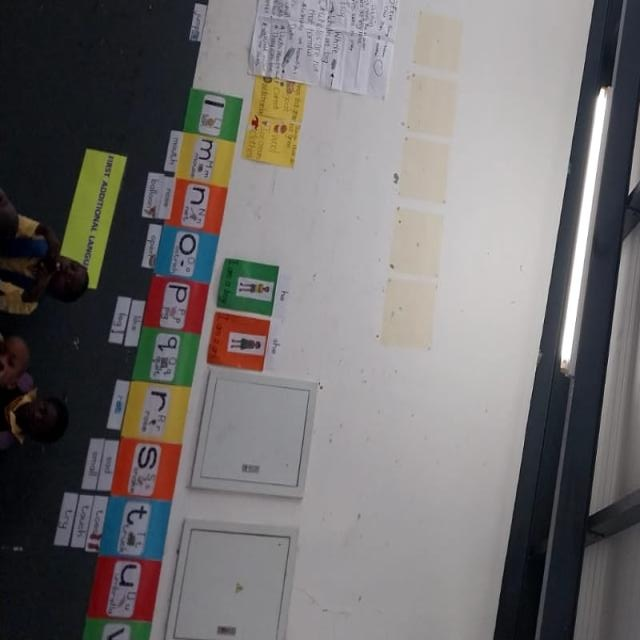fluorescent tube: (532, 61, 620, 387)
